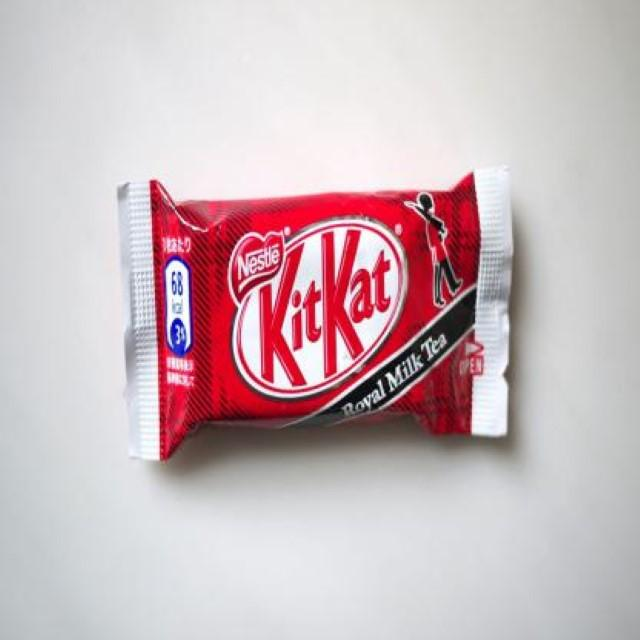kitkat_chocolate: (147, 192, 535, 466)
